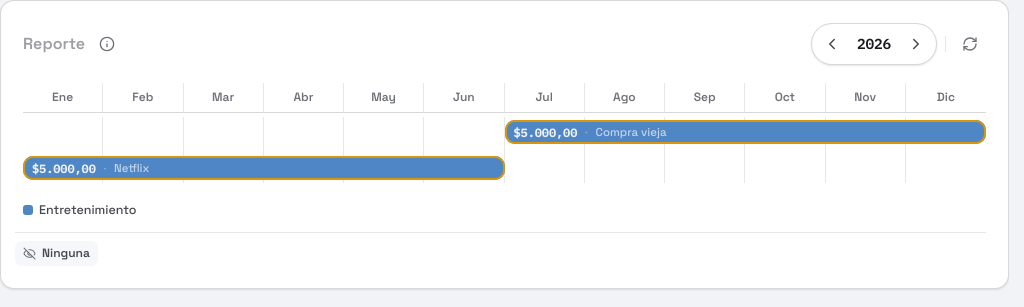
Scenario: Marca visual pasiva de límites en installment-gantt › hover en la barra marcada muestra el tooltip con la nota de límite cruzado
Hover over the row "$5.000,00 · Netflix": {"x": 264, "y": 168} left=23, top=156, right=504, bottom=180
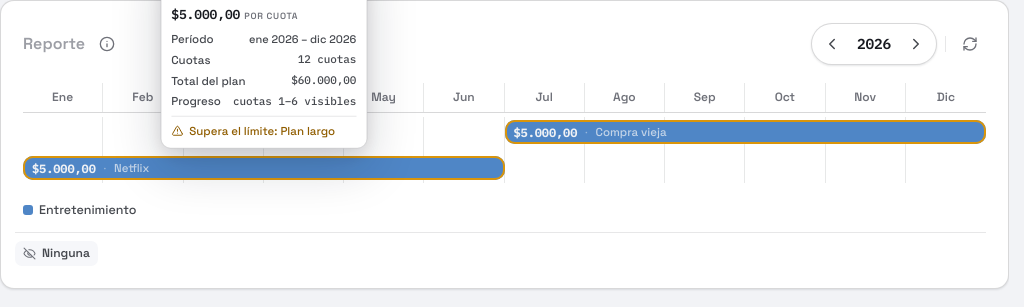
Check: the text "Supera el límite: Plan largo" is shown, box left=189, top=123, right=335, bottom=139
